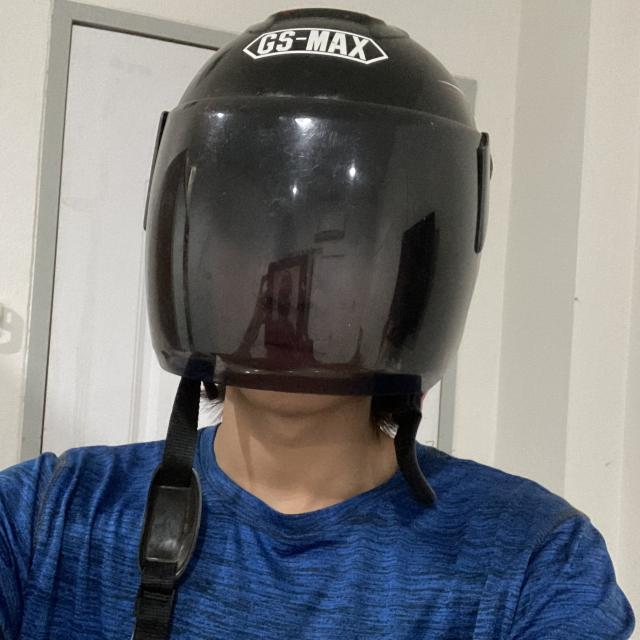illegal_helmet: (127, 4, 500, 640)
